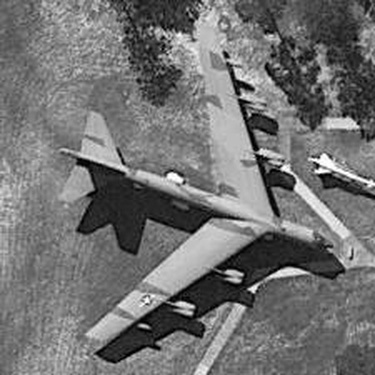airplane: (40, 10, 346, 369)
